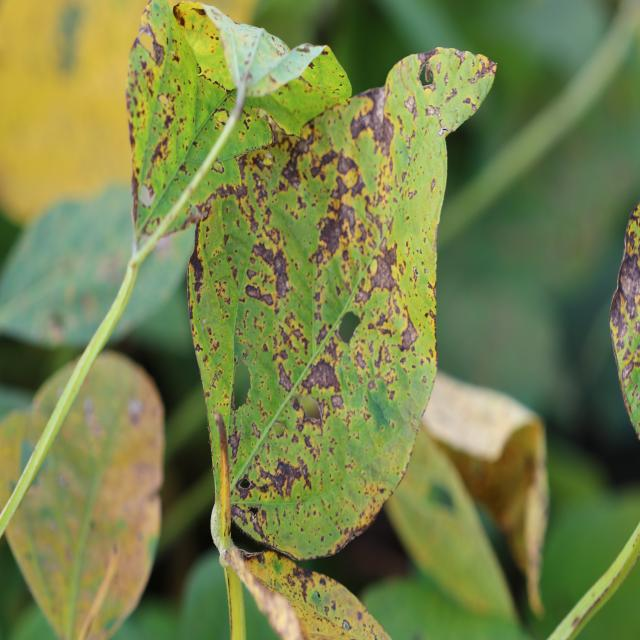Bacterial_Blight: (418, 51, 490, 140), (94, 446, 162, 523), (273, 127, 328, 214), (236, 340, 282, 444), (360, 281, 413, 366), (192, 254, 232, 366), (256, 489, 334, 546), (246, 248, 286, 331), (613, 284, 640, 381), (235, 182, 264, 236), (350, 99, 381, 143), (368, 250, 396, 293), (83, 397, 104, 441), (148, 132, 170, 170), (189, 243, 205, 287), (471, 54, 496, 81), (625, 209, 638, 257), (313, 243, 331, 276), (150, 35, 165, 65), (172, 5, 188, 28), (228, 431, 241, 458), (330, 393, 345, 410), (404, 96, 416, 113), (443, 72, 449, 86)
Soybean: (188, 48, 495, 559)
